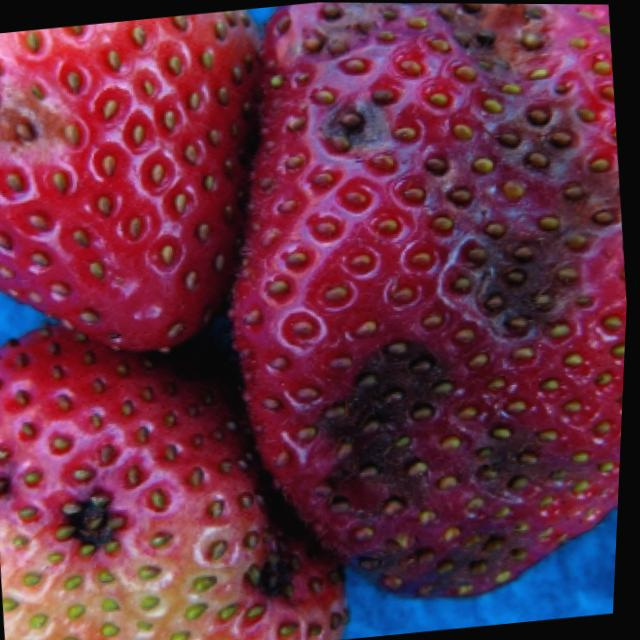Anthracnose Fruit Rot: (280, 2, 628, 598), (0, 61, 97, 188), (41, 473, 144, 567)
